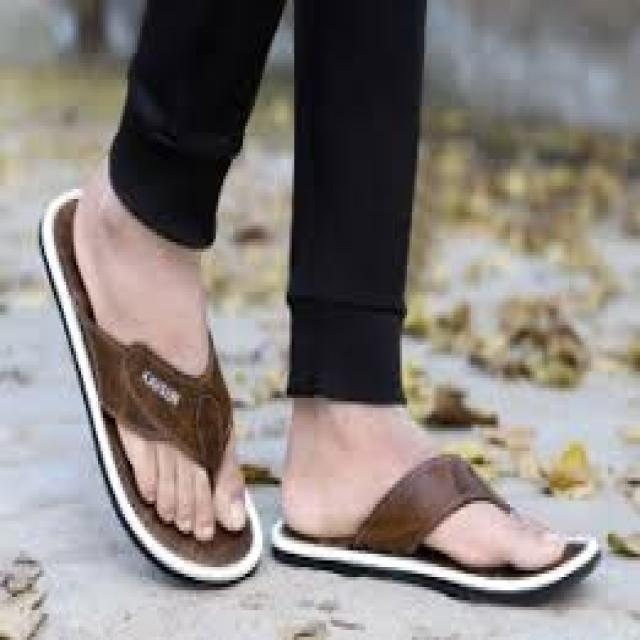Sandals: (40, 154, 265, 589), (271, 388, 601, 600)
